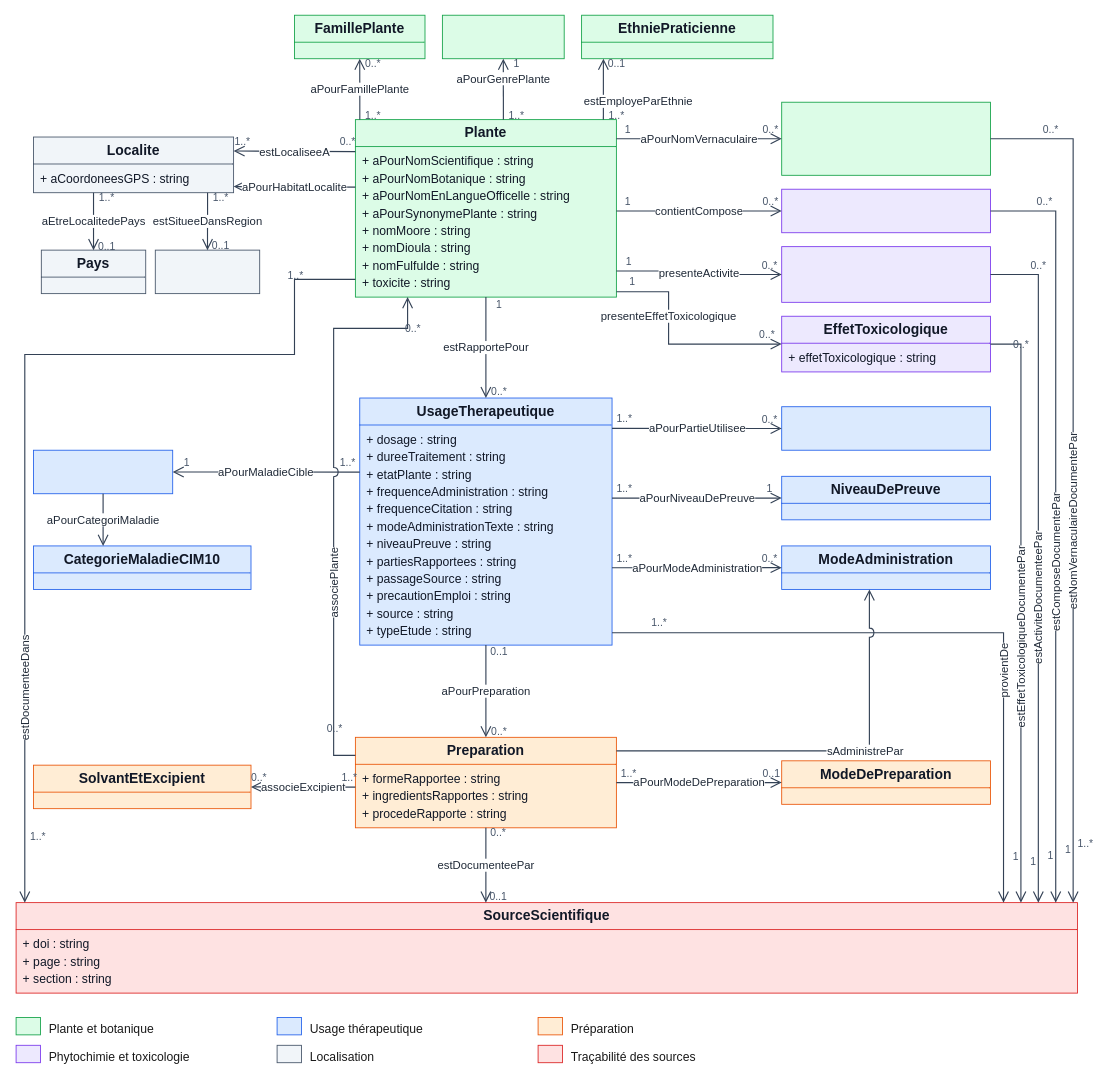
Image size: 1109x1080. Some labels were removed from this diagram. Each missing label, with the box of its shape:
ActivitePharmacologique + descriptionActivite : string: (781, 246, 990, 302)
ComposeChimique: (781, 188, 990, 233)
GenrePlante: (442, 14, 564, 59)
Maladie: (33, 449, 173, 494)
NomVernaculaire + codeLangue : string + nomVernaculaireTexte : string: (781, 101, 990, 175)
PartieDePlante: (781, 406, 990, 450)
Region: (154, 249, 260, 294)
